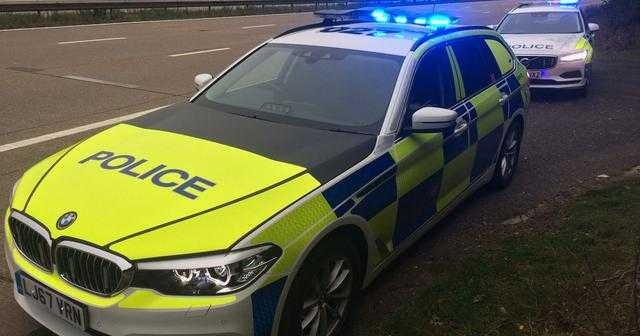Police Car: (14, 10, 544, 329)
